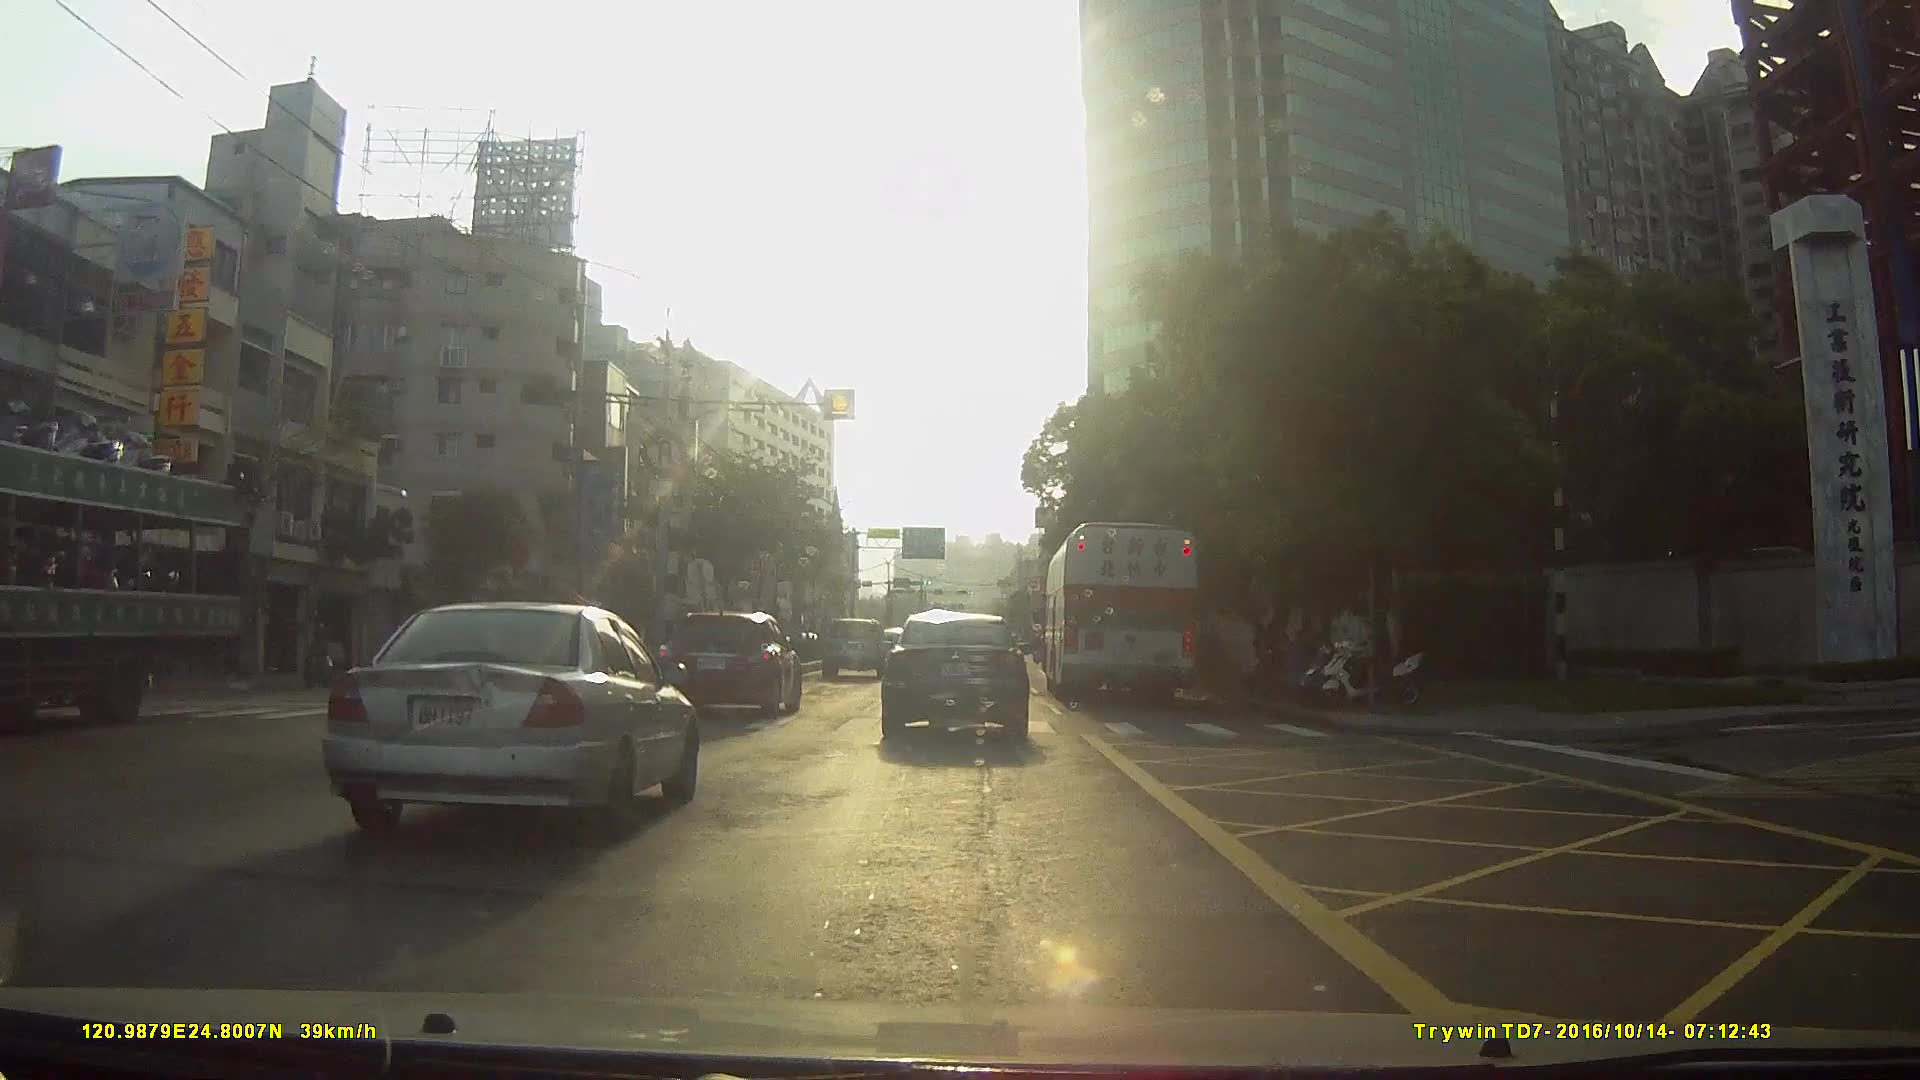rider: (305, 615, 344, 682)
vehicle: (316, 592, 697, 832), (1, 403, 275, 731), (1044, 513, 1203, 706), (878, 608, 1031, 748), (664, 604, 805, 715), (819, 613, 892, 679)
